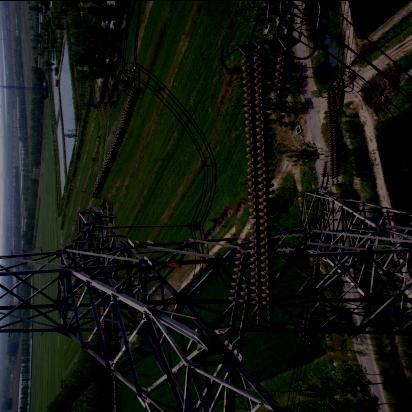insulator: (215, 42, 309, 323), (96, 83, 138, 203), (316, 86, 351, 184)
